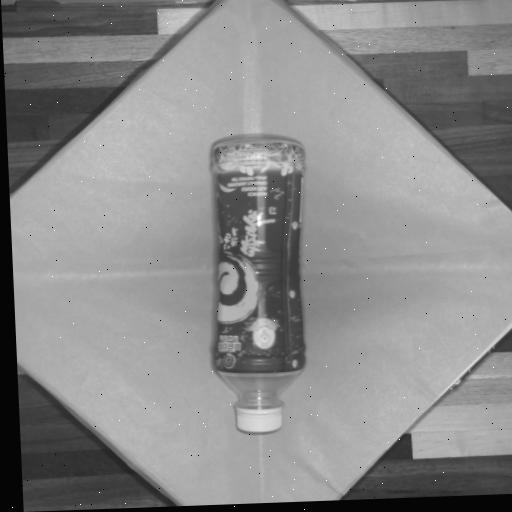bottle: (212, 139, 304, 432)
